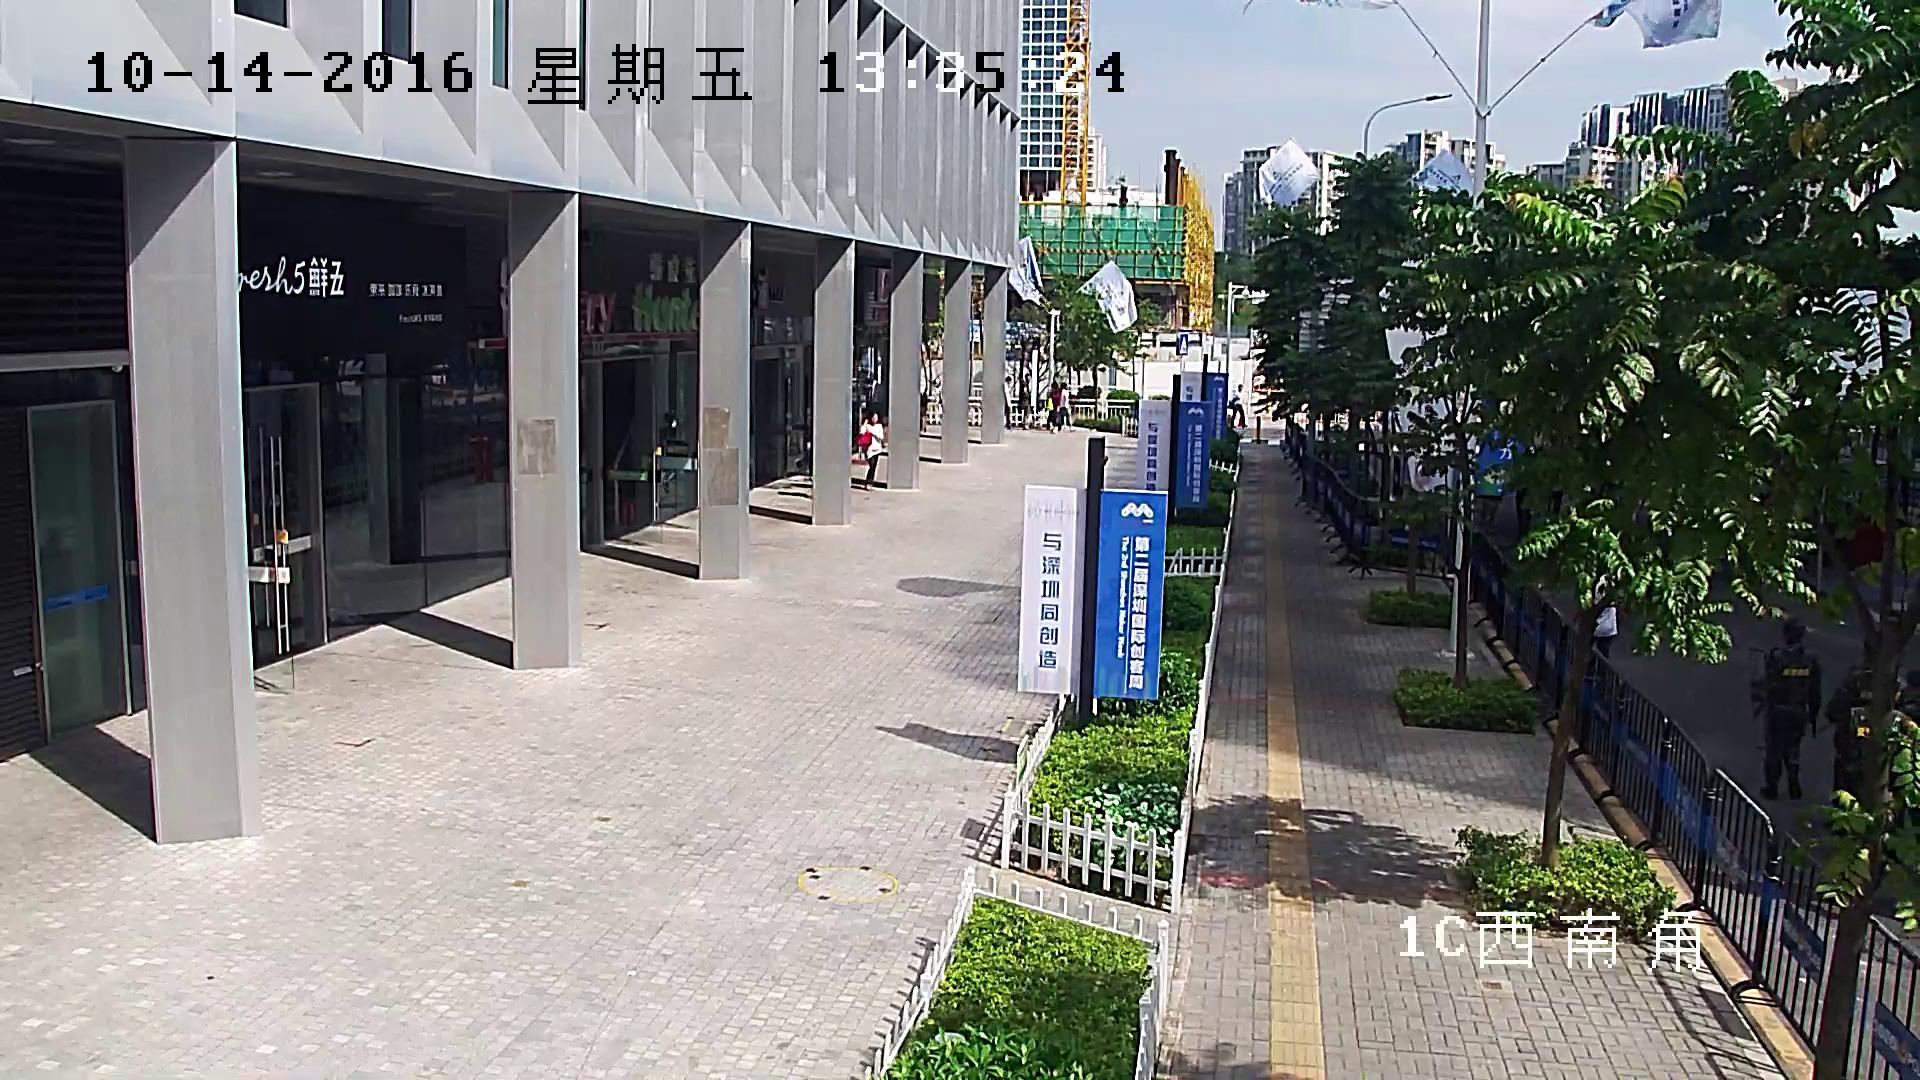person: (1750, 617, 1824, 801), (1823, 639, 1897, 793), (1591, 561, 1617, 660), (855, 411, 883, 492), (1017, 373, 1036, 430), (1228, 383, 1247, 429), (1045, 382, 1061, 434), (1058, 381, 1075, 431), (1000, 375, 1013, 430)
